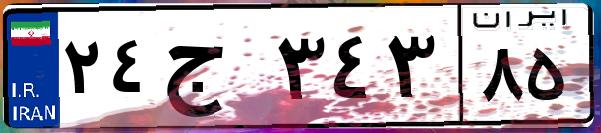2: (57, 26, 110, 100)
3: (270, 28, 330, 110), (385, 28, 445, 110)
4: (330, 28, 385, 110), (110, 28, 158, 98)
5: (525, 38, 570, 115)
8: (475, 38, 525, 113)
ج: (158, 20, 270, 120)
